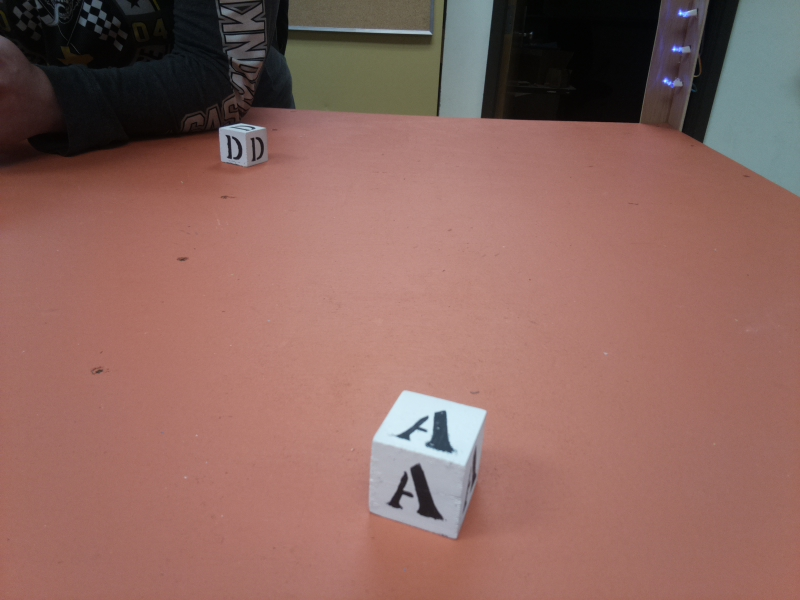blockA: (367, 390, 485, 547)
blockD: (218, 124, 268, 169)
corner: (635, 1, 711, 137)
